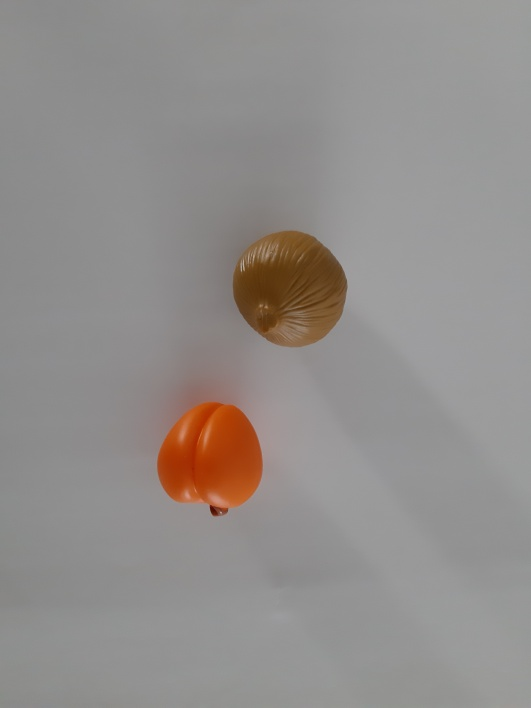apricot: (146, 383, 275, 542)
onion: (217, 213, 362, 370)
